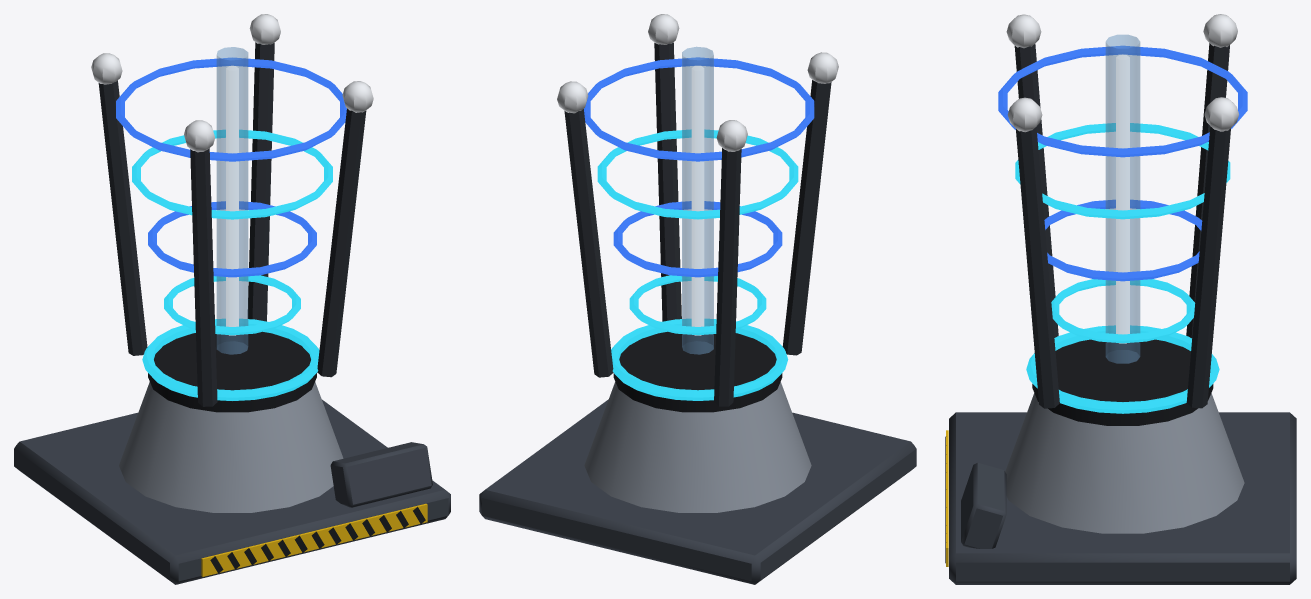
The model's file is particle_tractor_field_emitter.glb.
The picture shows the model from 3 angles, left to right: view 1: azimuth 30°, elevation 25°; view 2: azimuth 150°, elevation 25°; view 3: azimuth 270°, elevation 25°; orthographic projection. The views are drawn at different scales.
Parts seen in each view (by area): view 1: particle_tractor_field_emitter; view 2: particle_tractor_field_emitter; view 3: particle_tractor_field_emitter.
Part boxes in pixels (left/top/right/bottom): particle_tractor_field_emitter: left=14, top=14, right=450, bottom=584; particle_tractor_field_emitter: left=479, top=14, right=916, bottom=584; particle_tractor_field_emitter: left=945, top=14, right=1296, bottom=584.
Bounding box in the file's own units: 1 × 1.5 × 1.01.
